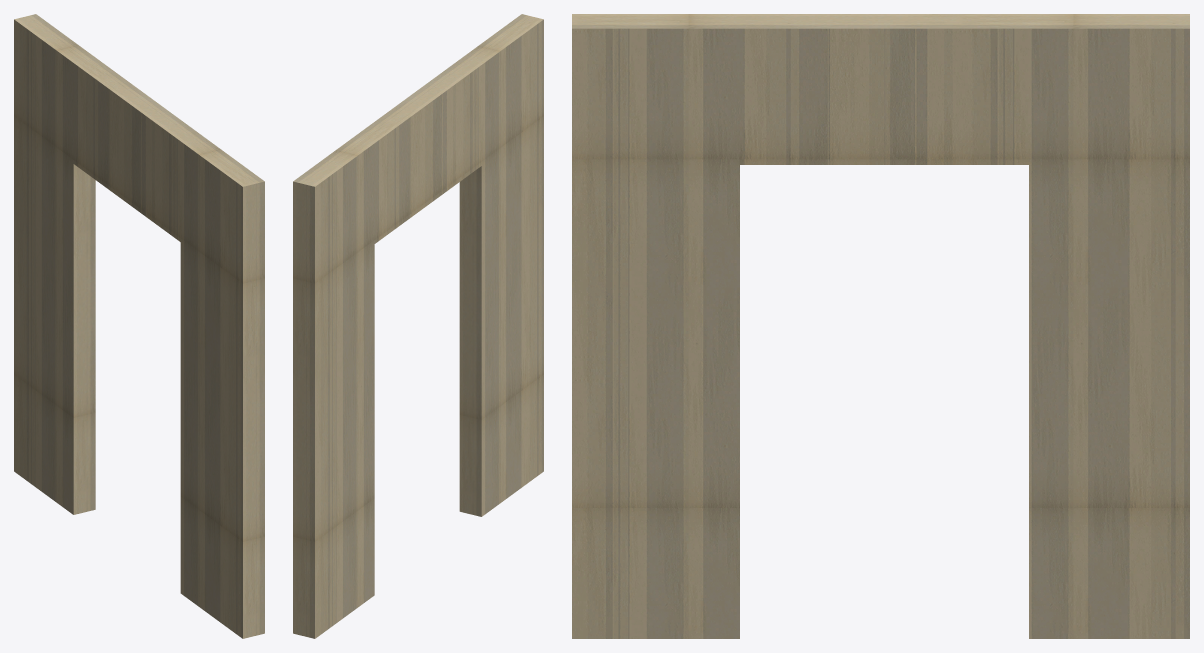
The model's file is soupdoorwall033.glb.
3 views of the same model, side by side, from view 1: azimuth 30°, elevation 25°; view 2: azimuth 150°, elevation 25°; view 3: azimuth 270°, elevation 25° (orthographic). The views are drawn at different scales.
Parts seen in each view (by area): view 1: soupdoorwall033_high_1; view 2: soupdoorwall033_high_1; view 3: soupdoorwall033_high_1.
Part boxes in pixels (x1,y1,x2,y2): soupdoorwall033_high_1: (14,14,264,638); soupdoorwall033_high_1: (293,14,543,638); soupdoorwall033_high_1: (572,14,1189,638).
Size of the model in its own units: 0.1504 by 2.95 by 2.7.
Materials: 1 (1 with a texture image).
